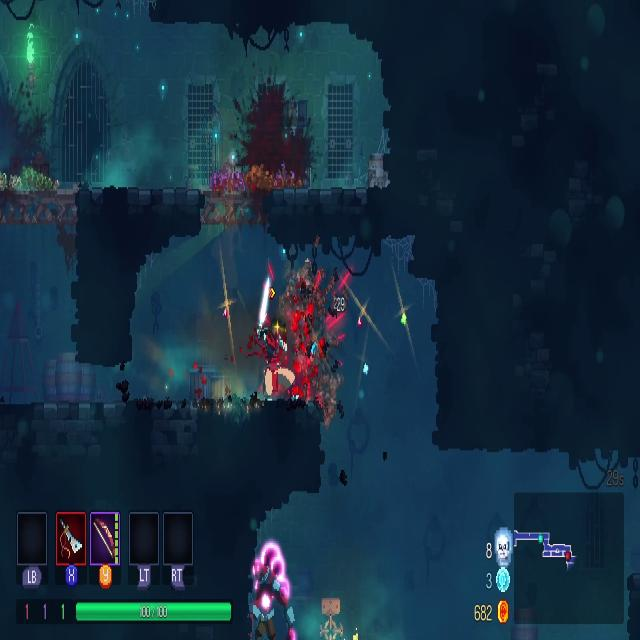agents: (247, 317, 290, 398)
enemy_purple_big: (252, 545, 299, 640)
wood_floor: (0, 178, 80, 227), (195, 186, 268, 224)
